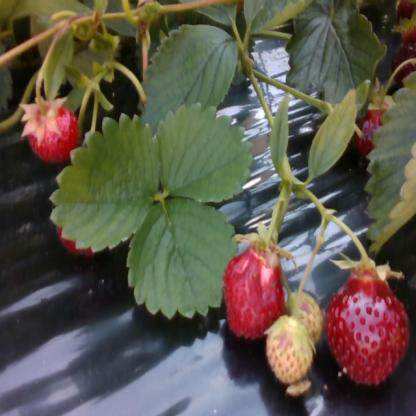ripe: (326, 272, 410, 386), (226, 244, 291, 340), (27, 100, 80, 164), (358, 101, 403, 153), (393, 0, 416, 80)
unripe: (268, 324, 315, 384), (290, 290, 322, 338)
